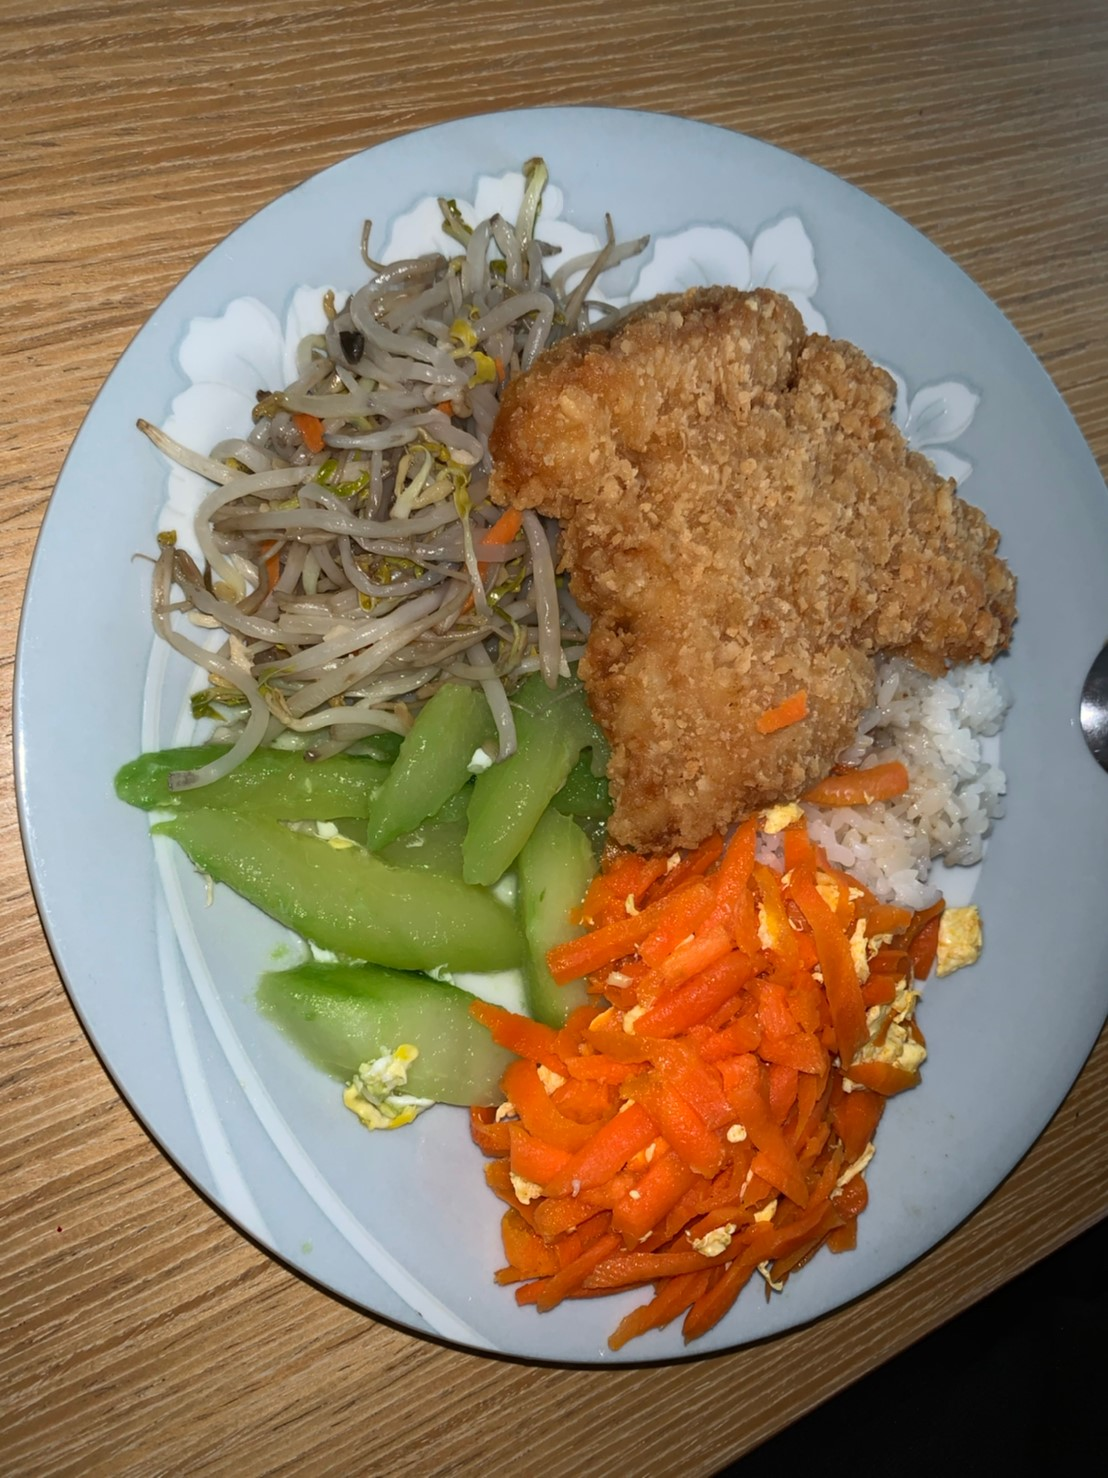carrot_eggs: (483, 820, 928, 1310)
fried_chicken: (492, 273, 1028, 851)
mung_bean_sprouts: (227, 264, 525, 761)
rice: (807, 652, 1023, 924)
